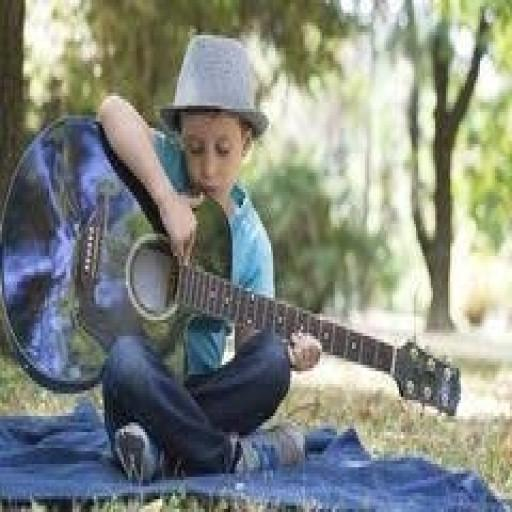sitting: (92, 29, 320, 483)
